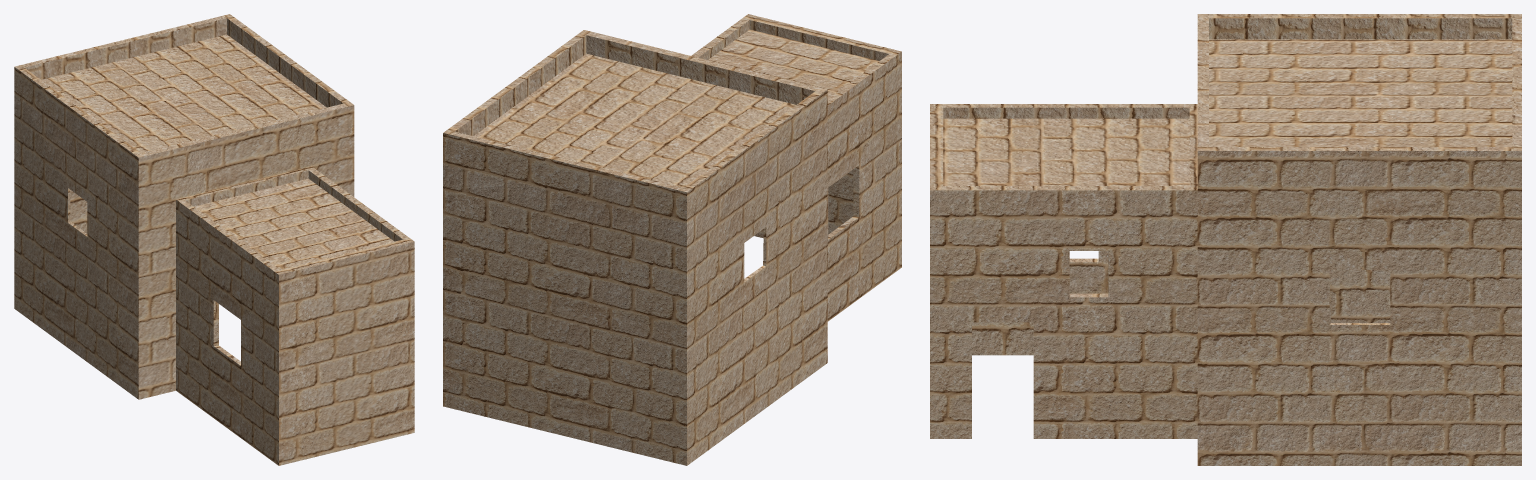
The model's file is desert_building01.obj.
3 views of the same model, side by side, from view 1: azimuth 30°, elevation 25°; view 2: azimuth 150°, elevation 25°; view 3: azimuth 270°, elevation 25° (orthographic). The views are drawn at different scales.
Visible parts, largest first — view 1: Cube; view 2: Cube; view 3: Cube.
Boxes of the visible parts, left/top/right/bottom form: Cube: left=14, top=14, right=414, bottom=465; Cube: left=443, top=14, right=901, bottom=465; Cube: left=930, top=14, right=1521, bottom=465.
Bounding box in the file's own units: 10.01 × 10.73 × 18.27.
1 material, 1 textured.
